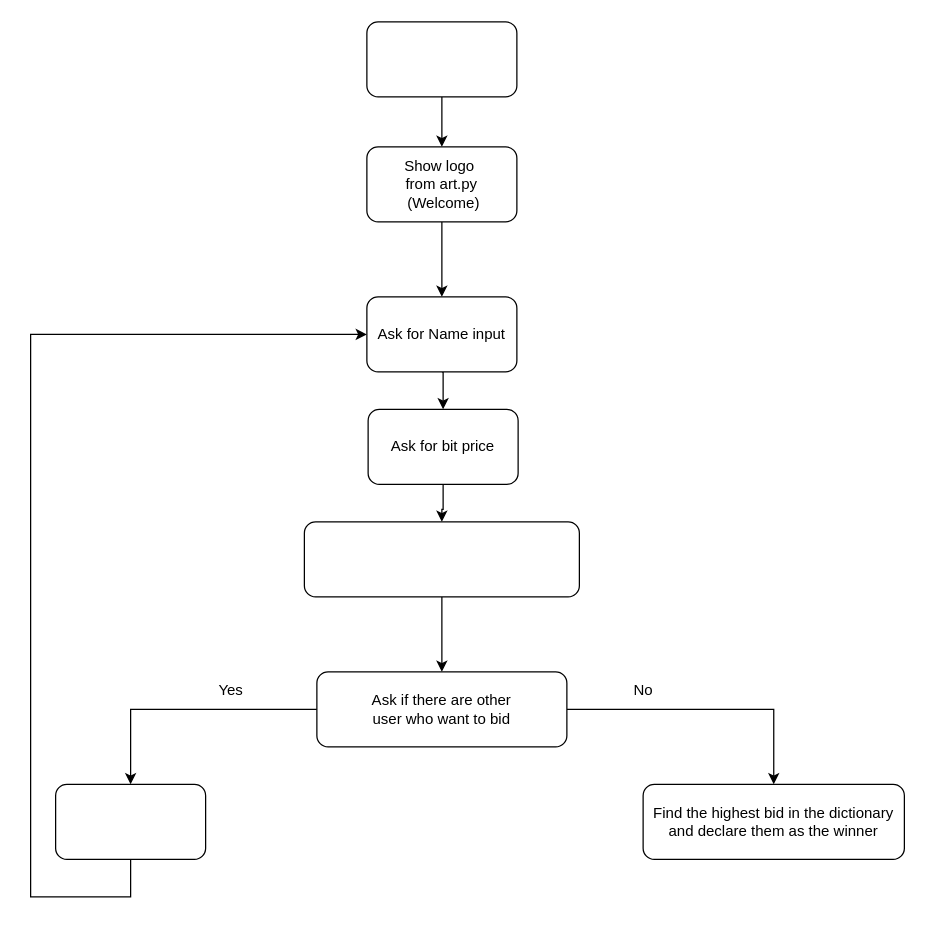
Some shapes in this 926 by 929 pixel diagram are drawn without their labels. Each missing label, with the centre of its shape:
"Add Name and Bid into a dictionary as the Key ans Value" goes at (441,559).
"Clear the screen" goes at (130,821).
"Start app" goes at (441,59).
